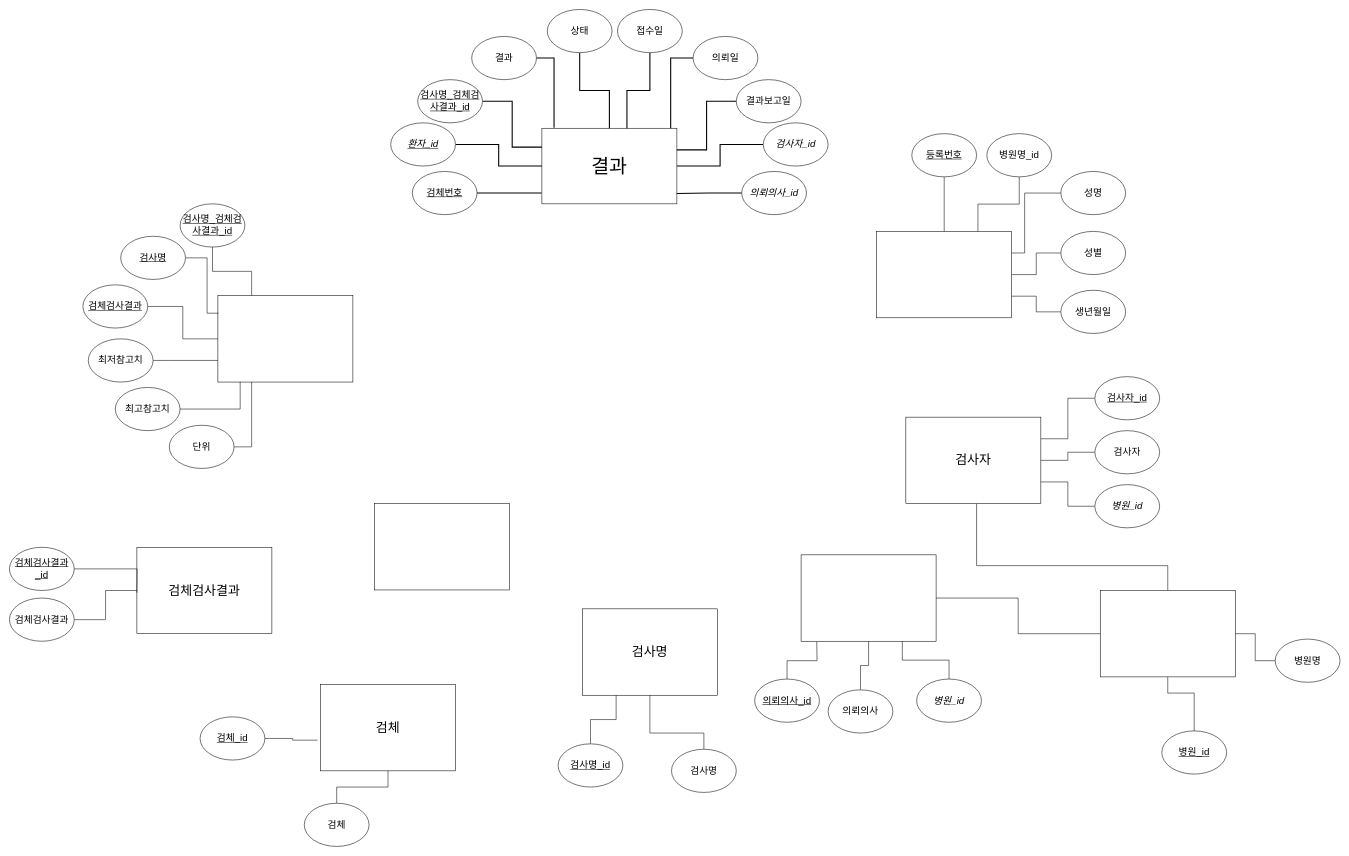
Image size: 1349x856. Some labels were removed from this diagram. The centre of each missing label's shape, as x and y in pixels:
"검사명_검체검사결과" goes at (x=285, y=338).
"검체_검체검사결과" goes at (x=441, y=546).
"병원" goes at (x=1167, y=633).
"의사" goes at (x=868, y=597).
"환자" goes at (x=944, y=274).
